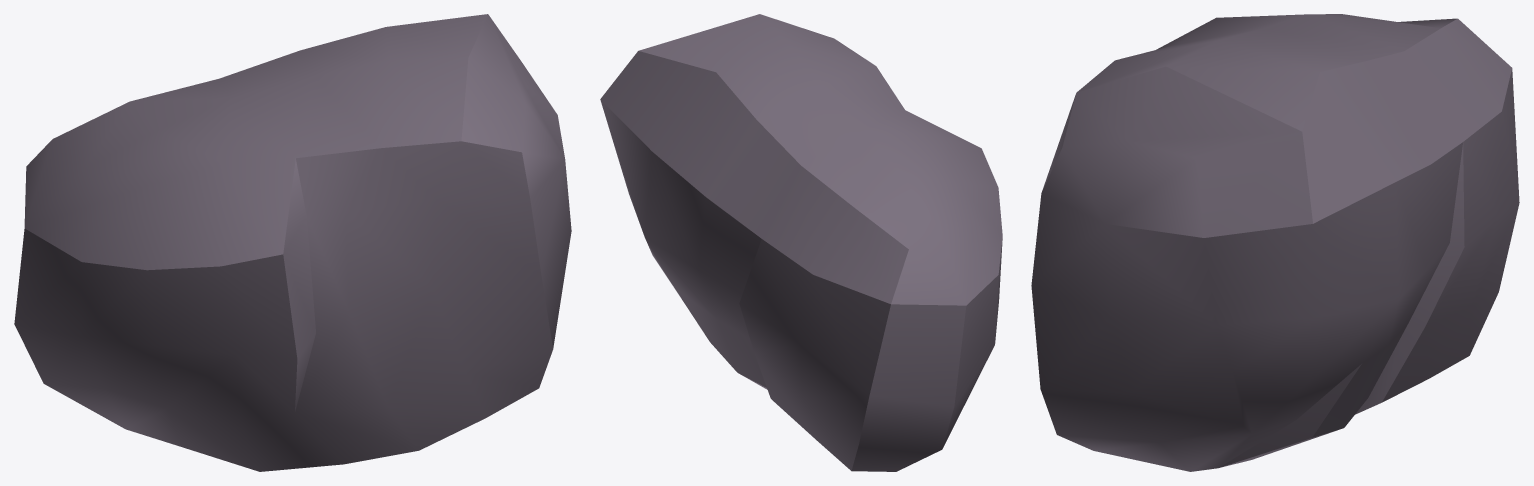
The model's file is P_stone_01_LD.fbx.
3 renders of one model, left to right at view 1: azimuth 30°, elevation 25°; view 2: azimuth 150°, elevation 25°; view 3: azimuth 270°, elevation 25°, orthographic. The views are drawn at different scales.
Parts seen in each view (by area): view 1: P_stone_01; view 2: P_stone_01; view 3: P_stone_01.
Part boxes in pixels (x1,y1,x2,y2): P_stone_01: [14, 14, 571, 471]; P_stone_01: [600, 14, 1002, 471]; P_stone_01: [1031, 14, 1519, 471].
Size of the model in its own units: 702 by 571 by 559.
1 material, 1 textured.
